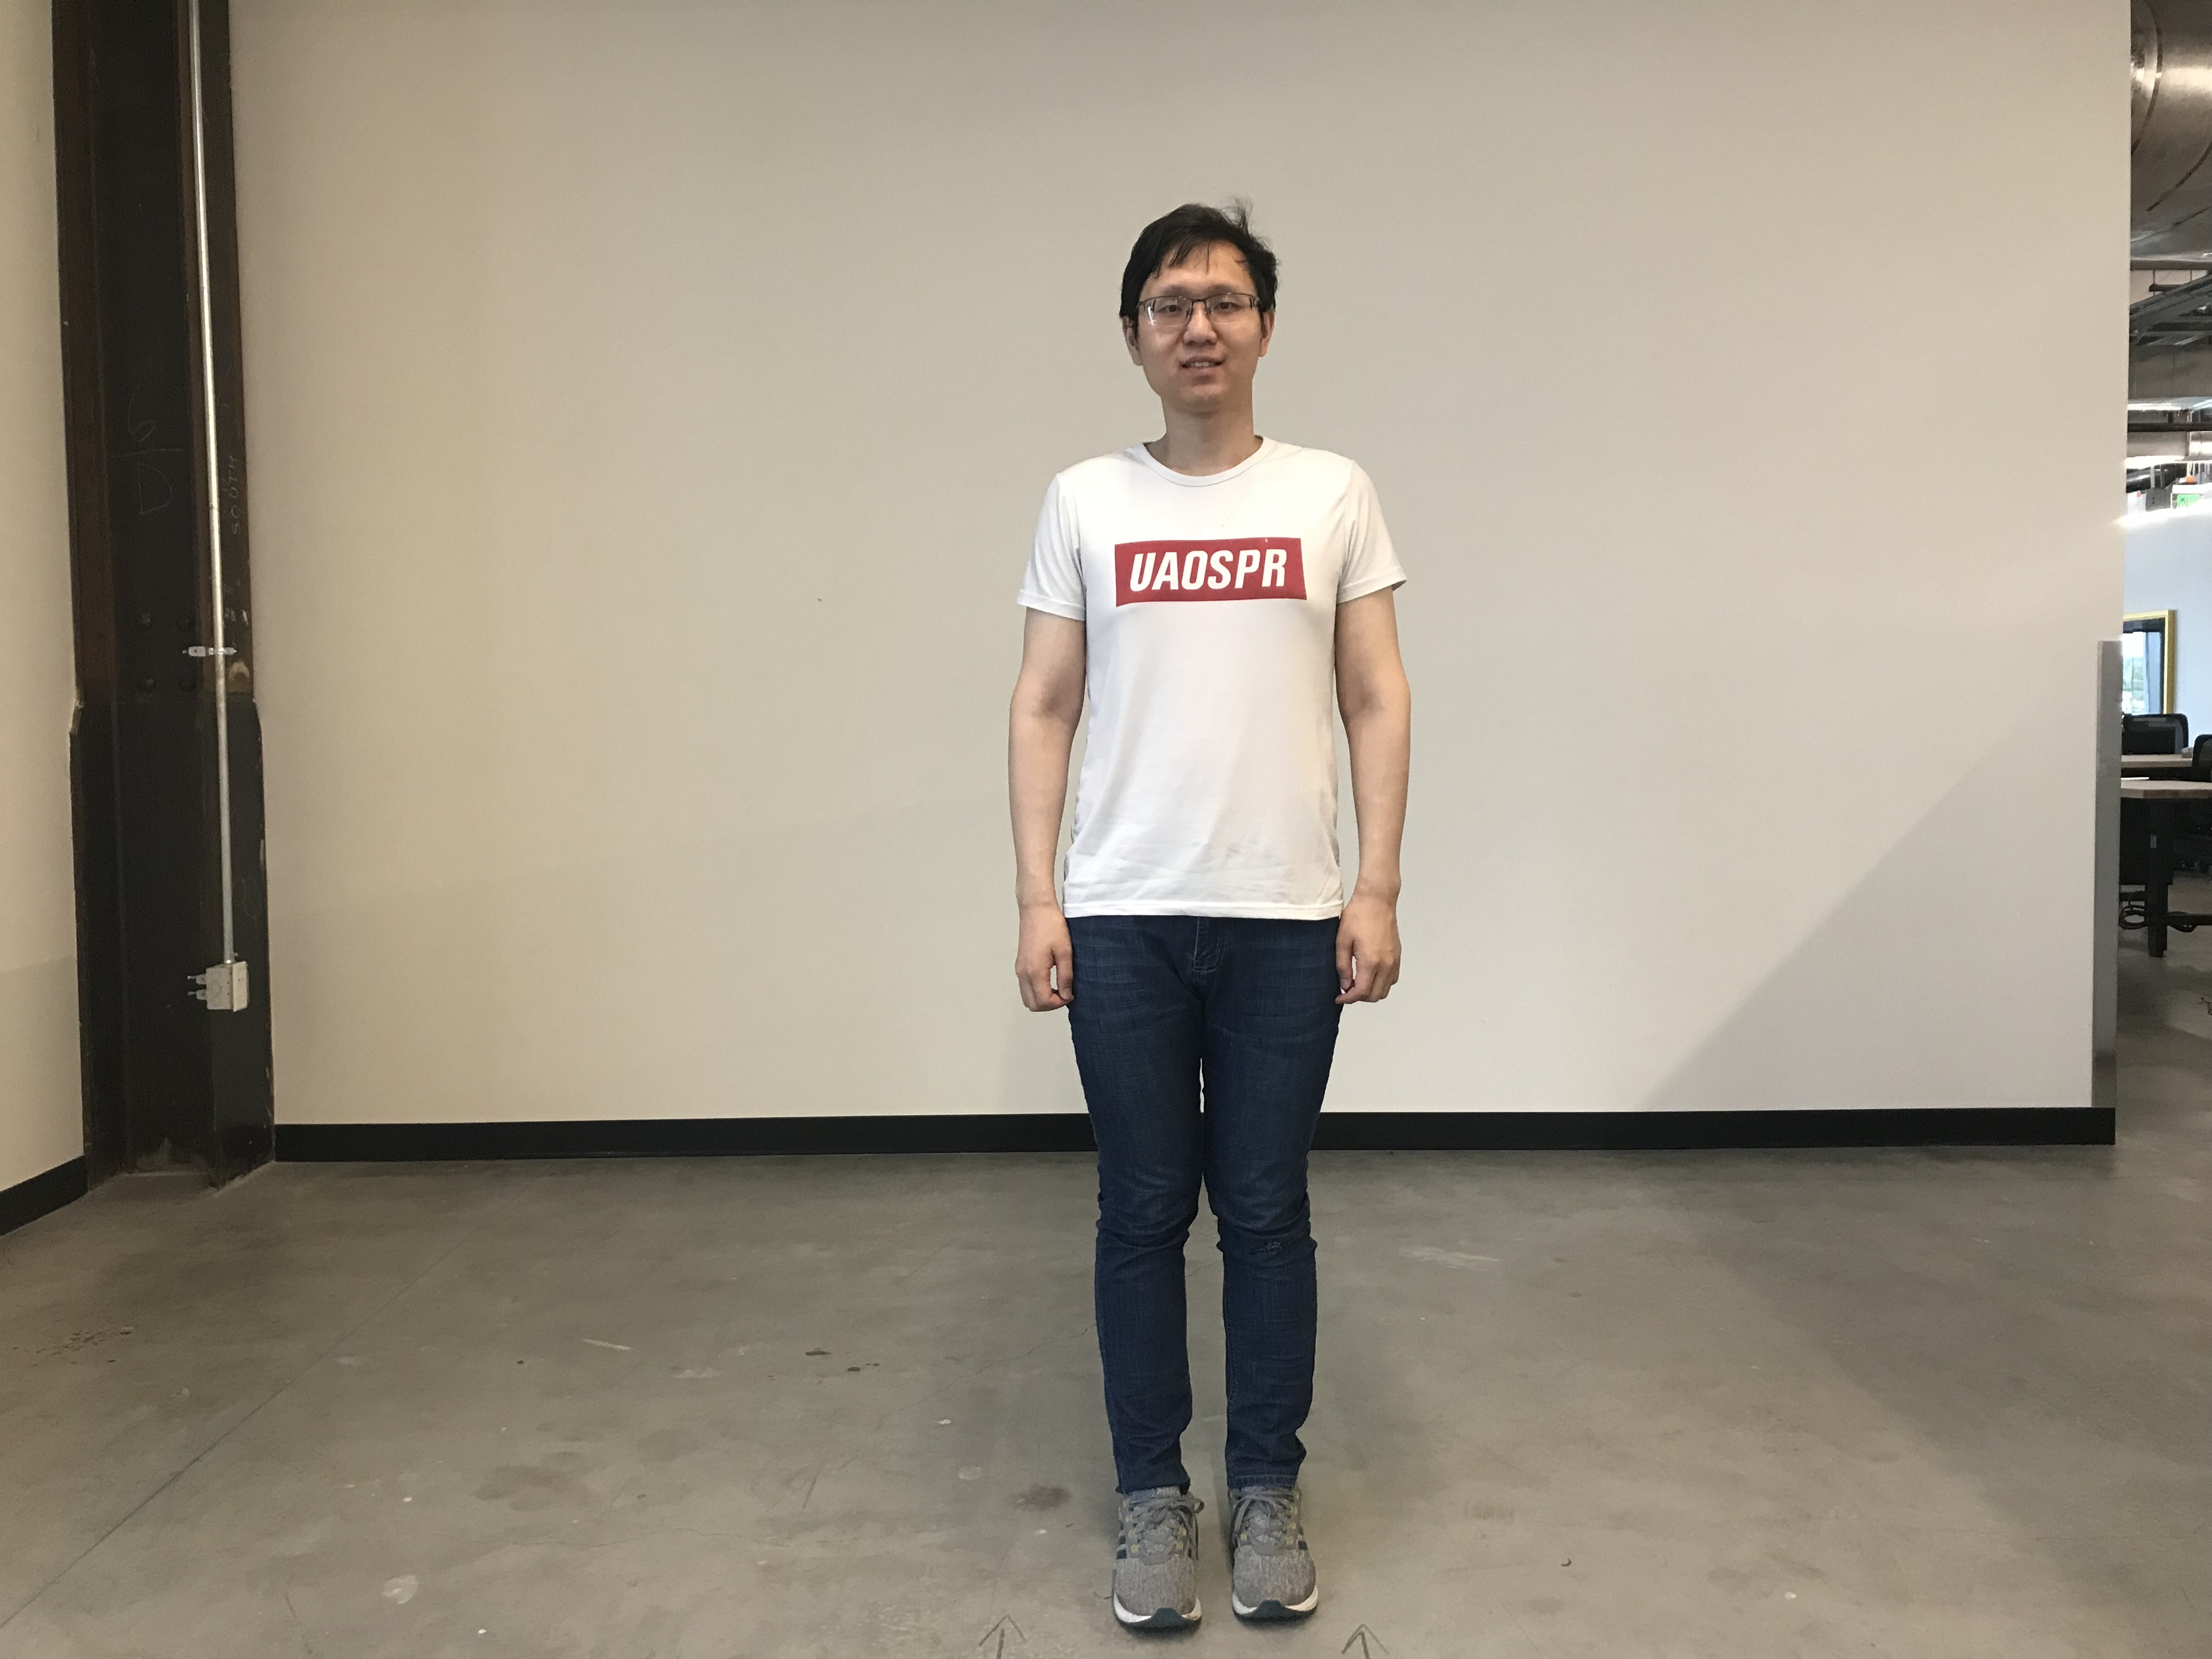attack_zone: (1120, 497, 1305, 842), (1987, 94, 2003, 105)
